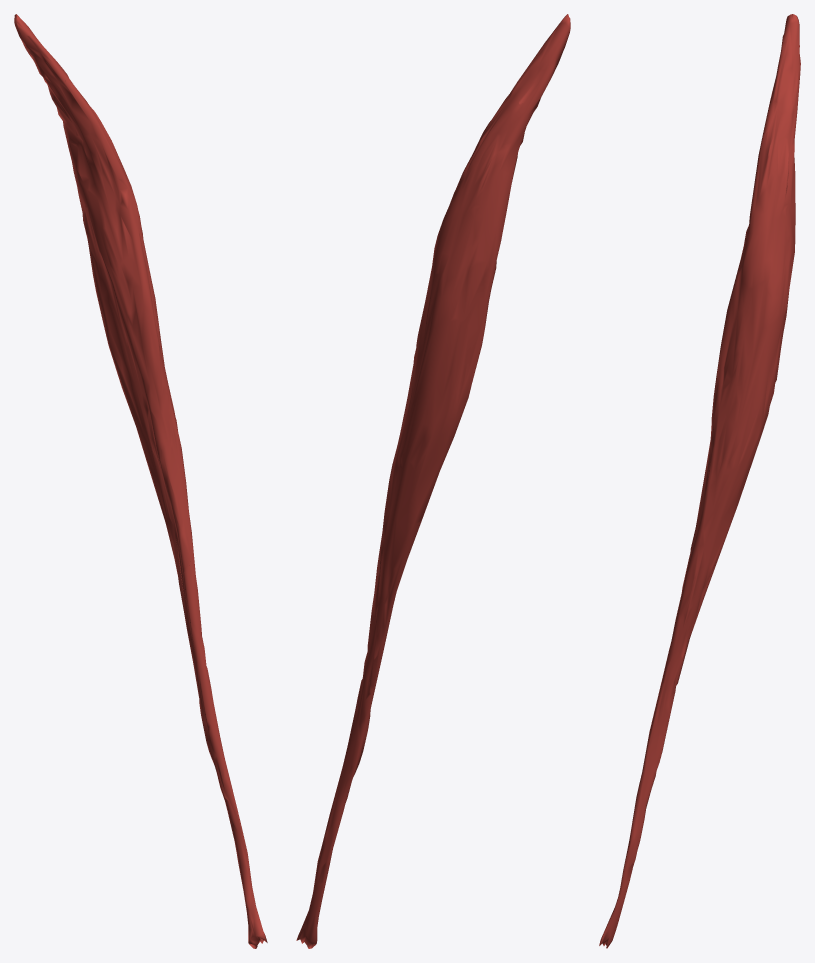
Rendered from musculos-extensor-carpi-radialis-longus-l.glb.
3 renders of one model, left to right at view 1: azimuth 30°, elevation 25°; view 2: azimuth 210°, elevation 25°; view 3: azimuth 270°, elevation 25°, orthographic. The views are drawn at different scales.
Visible parts, largest first — view 1: Extensor carpi radialis longus.l; view 2: Extensor carpi radialis longus.l; view 3: Extensor carpi radialis longus.l.
Boxes of the visible parts, x1,y1,x2,y2 form: Extensor carpi radialis longus.l: [14, 14, 267, 948]; Extensor carpi radialis longus.l: [296, 14, 570, 948]; Extensor carpi radialis longus.l: [599, 14, 800, 948].
Size of the model in its own units: 0.0597 by 0.3331 by 0.0703.
